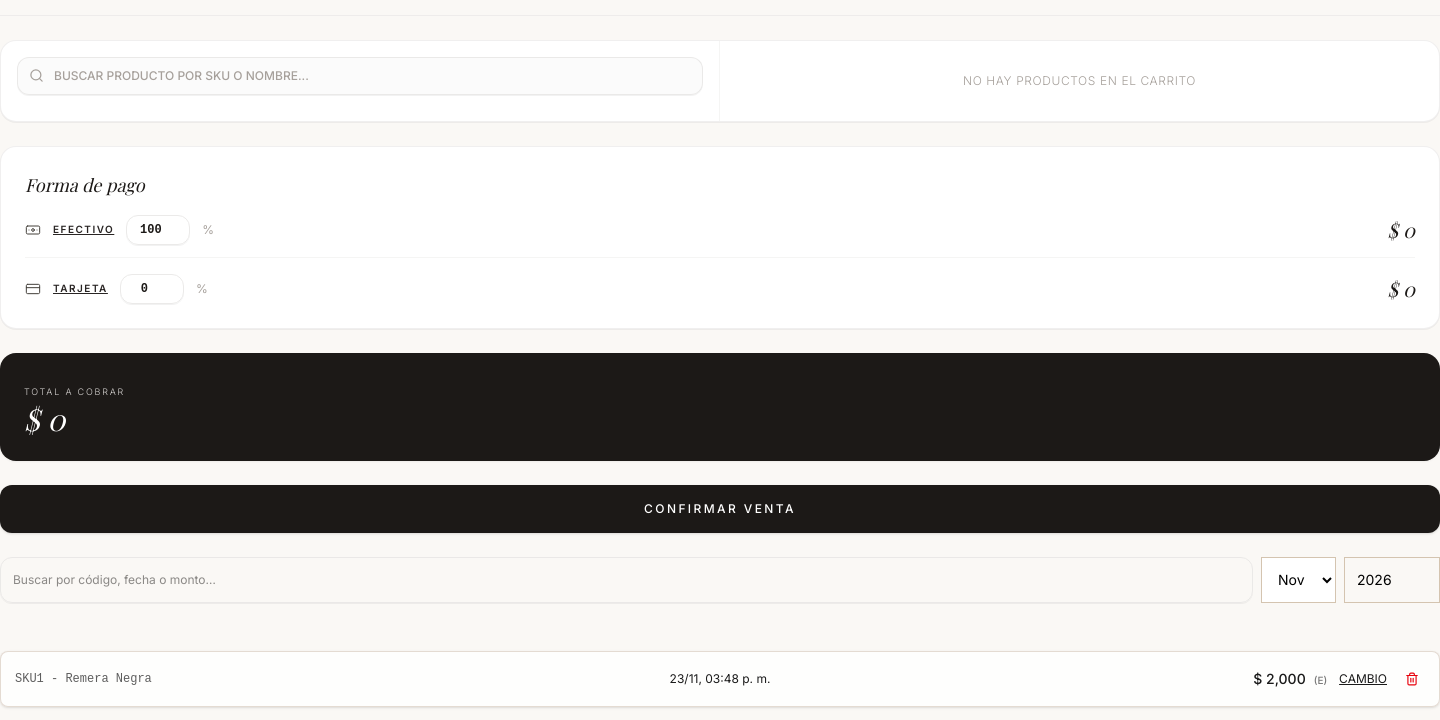
Componente Sales › permite realizar un cambio devolviendo prenda y generando una Gift Card por el valor total devuelto
Later steps or results of the test are not shown.
Note: Iniciar modo cambio desde la venta original
Click the button "Cambio": (1363, 678) [1339, 670, 1387, 686]
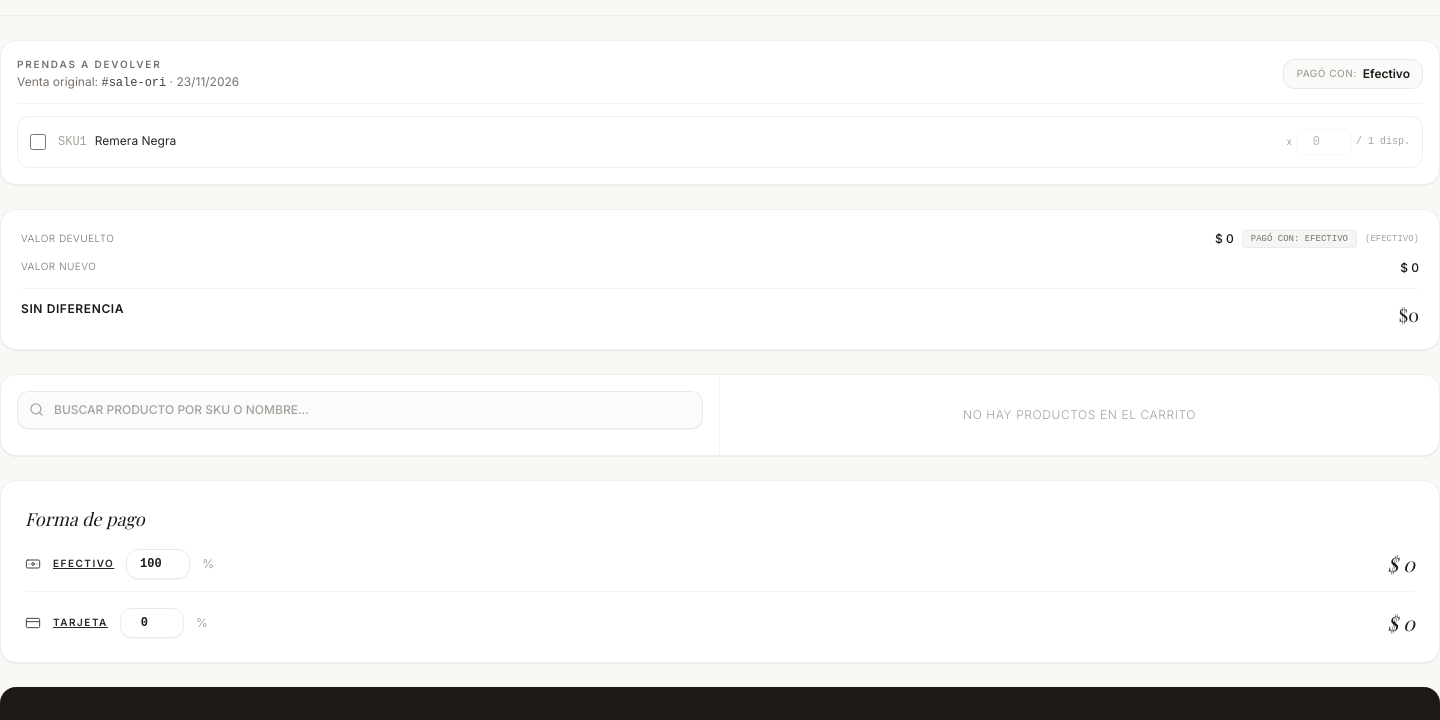
Note: Seleccionar la prenda a devolver
Click the checkbox: (38, 142) [30, 134, 46, 150]
(page scrolled)
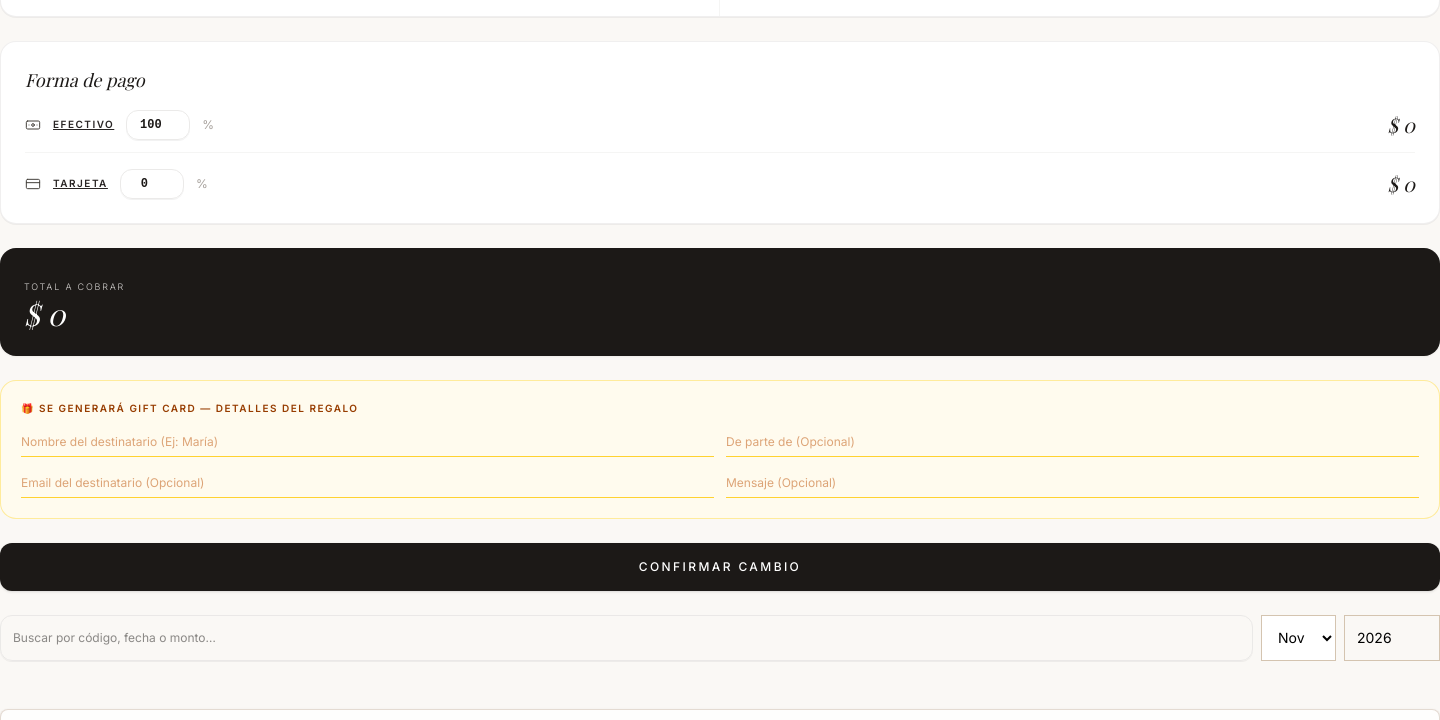
Expected: the text "🎁 Se generará gift card — Detalles del regalo" is shown, [21, 402, 358, 414]
